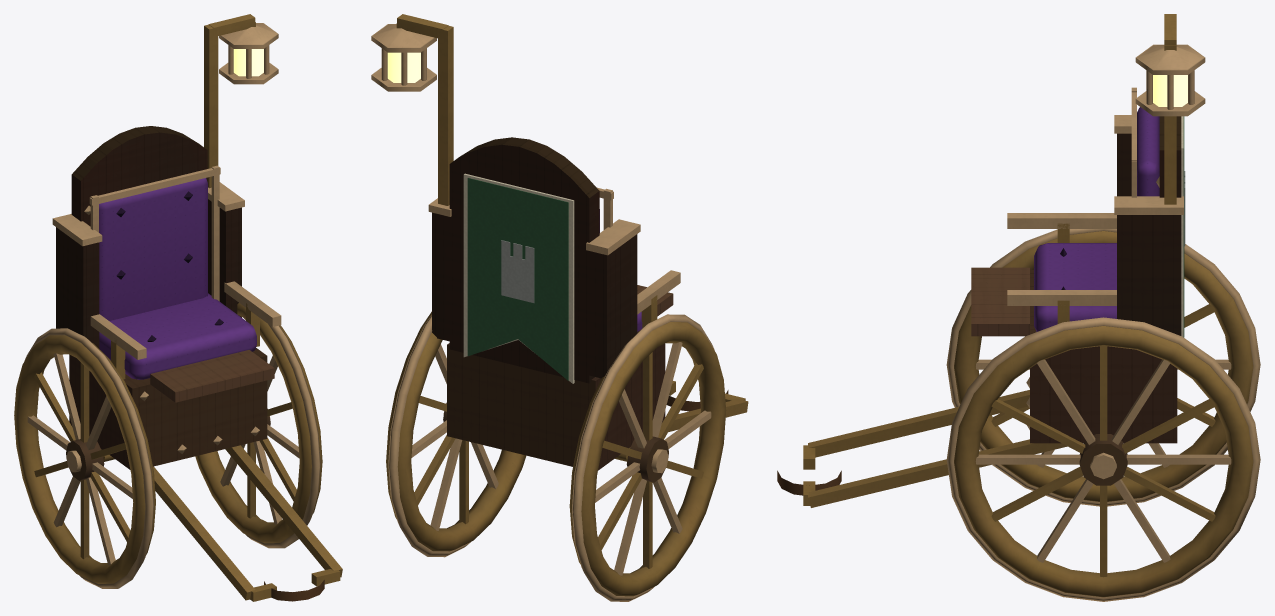
Rendered from rickshaw_mount.glb.
The picture shows the model from 3 angles, left to right: view 1: azimuth 30°, elevation 25°; view 2: azimuth 150°, elevation 25°; view 3: azimuth 270°, elevation 25°; orthographic projection. The views are drawn at different scales.
Parts seen in each view (by area): view 1: RickshawWood, RickshawLeather, Wheel_L, RickshawBronze, Wheel_R, RickshawLanternGlow; view 2: RickshawWood, Wheel_L, RickshawFabric, Wheel_R, RickshawBronze, RickshawLanternGlow; view 3: Wheel_R, RickshawWood, RickshawBronze, Wheel_L, RickshawLeather, RickshawLanternGlow, RickshawFabric.
Part boxes in pixels (x1,y1,x2,y2): RickshawWood: (56, 126, 274, 469); RickshawLeather: (99, 178, 324, 601); Wheel_L: (14, 328, 155, 588); RickshawBronze: (52, 14, 342, 601); Wheel_R: (195, 303, 322, 548); RickshawLanternGlow: (233, 49, 263, 76); RickshawWood: (432, 137, 673, 470); Wheel_L: (569, 314, 726, 601); RickshawFabric: (463, 173, 574, 383); Wheel_R: (386, 311, 526, 557); RickshawBronze: (371, 14, 748, 461); RickshawLanternGlow: (387, 52, 420, 82); Wheel_R: (946, 317, 1260, 601); RickshawWood: (971, 116, 1181, 443); RickshawBronze: (803, 14, 1205, 507); Wheel_L: (946, 229, 1260, 506); RickshawLeather: (777, 107, 1159, 495); RickshawLanternGlow: (1153, 75, 1187, 106); RickshawFabric: (1181, 116, 1185, 337).
Bounding box in the file's own units: 2.3 × 4.78 × 3.61.
5 materials, 4 textured.
